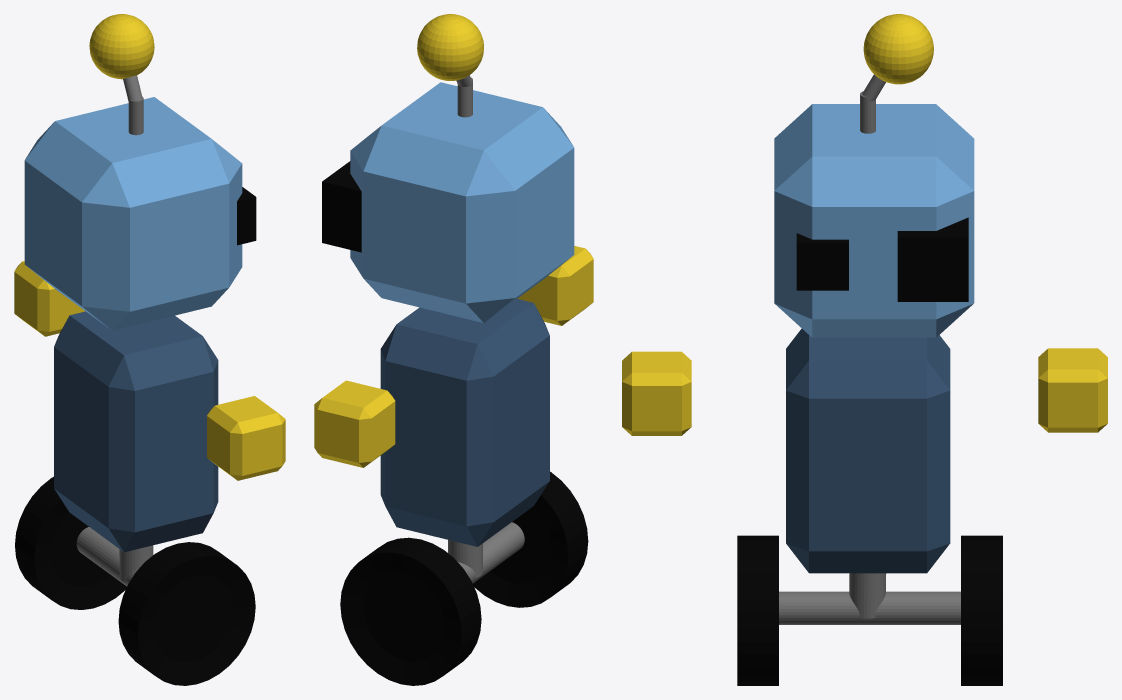
The model's file is player_model_3.gltf.
The picture shows the model from 3 angles, left to right: view 1: azimuth 30°, elevation 25°; view 2: azimuth 150°, elevation 25°; view 3: azimuth 270°, elevation 25°; orthographic projection. The views are drawn at different scales.
Parts seen in each view (by area): view 1: Cube, Cube.003, Cylinder, Cylinder.001, Cube.005, Sphere, Cube.004, Cylinder.002, Cube.001, Cylinder.003, Cylinder.004; view 2: Cube, Cube.003, Cylinder.001, Cylinder, Cube.004, Sphere, Cube.005, Cube.002, Cylinder.002, Cylinder.003, Cylinder.004; view 3: Cube.003, Cube, Cylinder, Cylinder.001, Cube.004, Cube.005, Cylinder.002, Cube.002, Sphere, Cube.001, Cylinder.003.
Boxes of the visible parts, box(x1,y1,x2,y2) form: Cube: box(24, 97, 242, 330); Cube.003: box(54, 311, 218, 552); Cylinder: box(118, 542, 255, 685); Cylinder.001: box(15, 476, 126, 609); Cube.005: box(207, 396, 285, 480); Sphere: box(89, 14, 154, 79); Cube.004: box(14, 261, 85, 336); Cylinder.002: box(76, 527, 138, 586); Cube.001: box(237, 187, 256, 245); Cylinder.003: box(119, 545, 153, 582); Cylinder.004: box(128, 97, 143, 135); Cube: box(350, 82, 574, 322); Cube.003: box(380, 299, 549, 546); Cylinder.001: box(340, 537, 481, 685); Cylinder: box(473, 471, 588, 607); Cube.004: box(314, 380, 395, 467); Sphere: box(417, 14, 483, 80); Cube.005: box(517, 246, 593, 325); Cube.002: box(322, 161, 361, 252); Cylinder.002: box(457, 522, 524, 583); Cylinder.003: box(448, 540, 482, 577); Cylinder.004: box(457, 77, 472, 117); Cube.003: box(786, 328, 950, 573); Cube: box(774, 104, 974, 337); Cylinder: box(737, 535, 778, 685); Cylinder.001: box(961, 535, 1002, 685); Cube.004: box(1038, 348, 1107, 432); Cube.005: box(622, 351, 691, 435); Cylinder.002: box(779, 591, 960, 624); Cube.002: box(897, 217, 968, 301); Sphere: box(863, 14, 933, 84); Cube.001: box(796, 233, 848, 290); Cylinder.003: box(849, 573, 886, 618).
Size of the model in its own units: 2.2 by 7.46 by 4.96.
